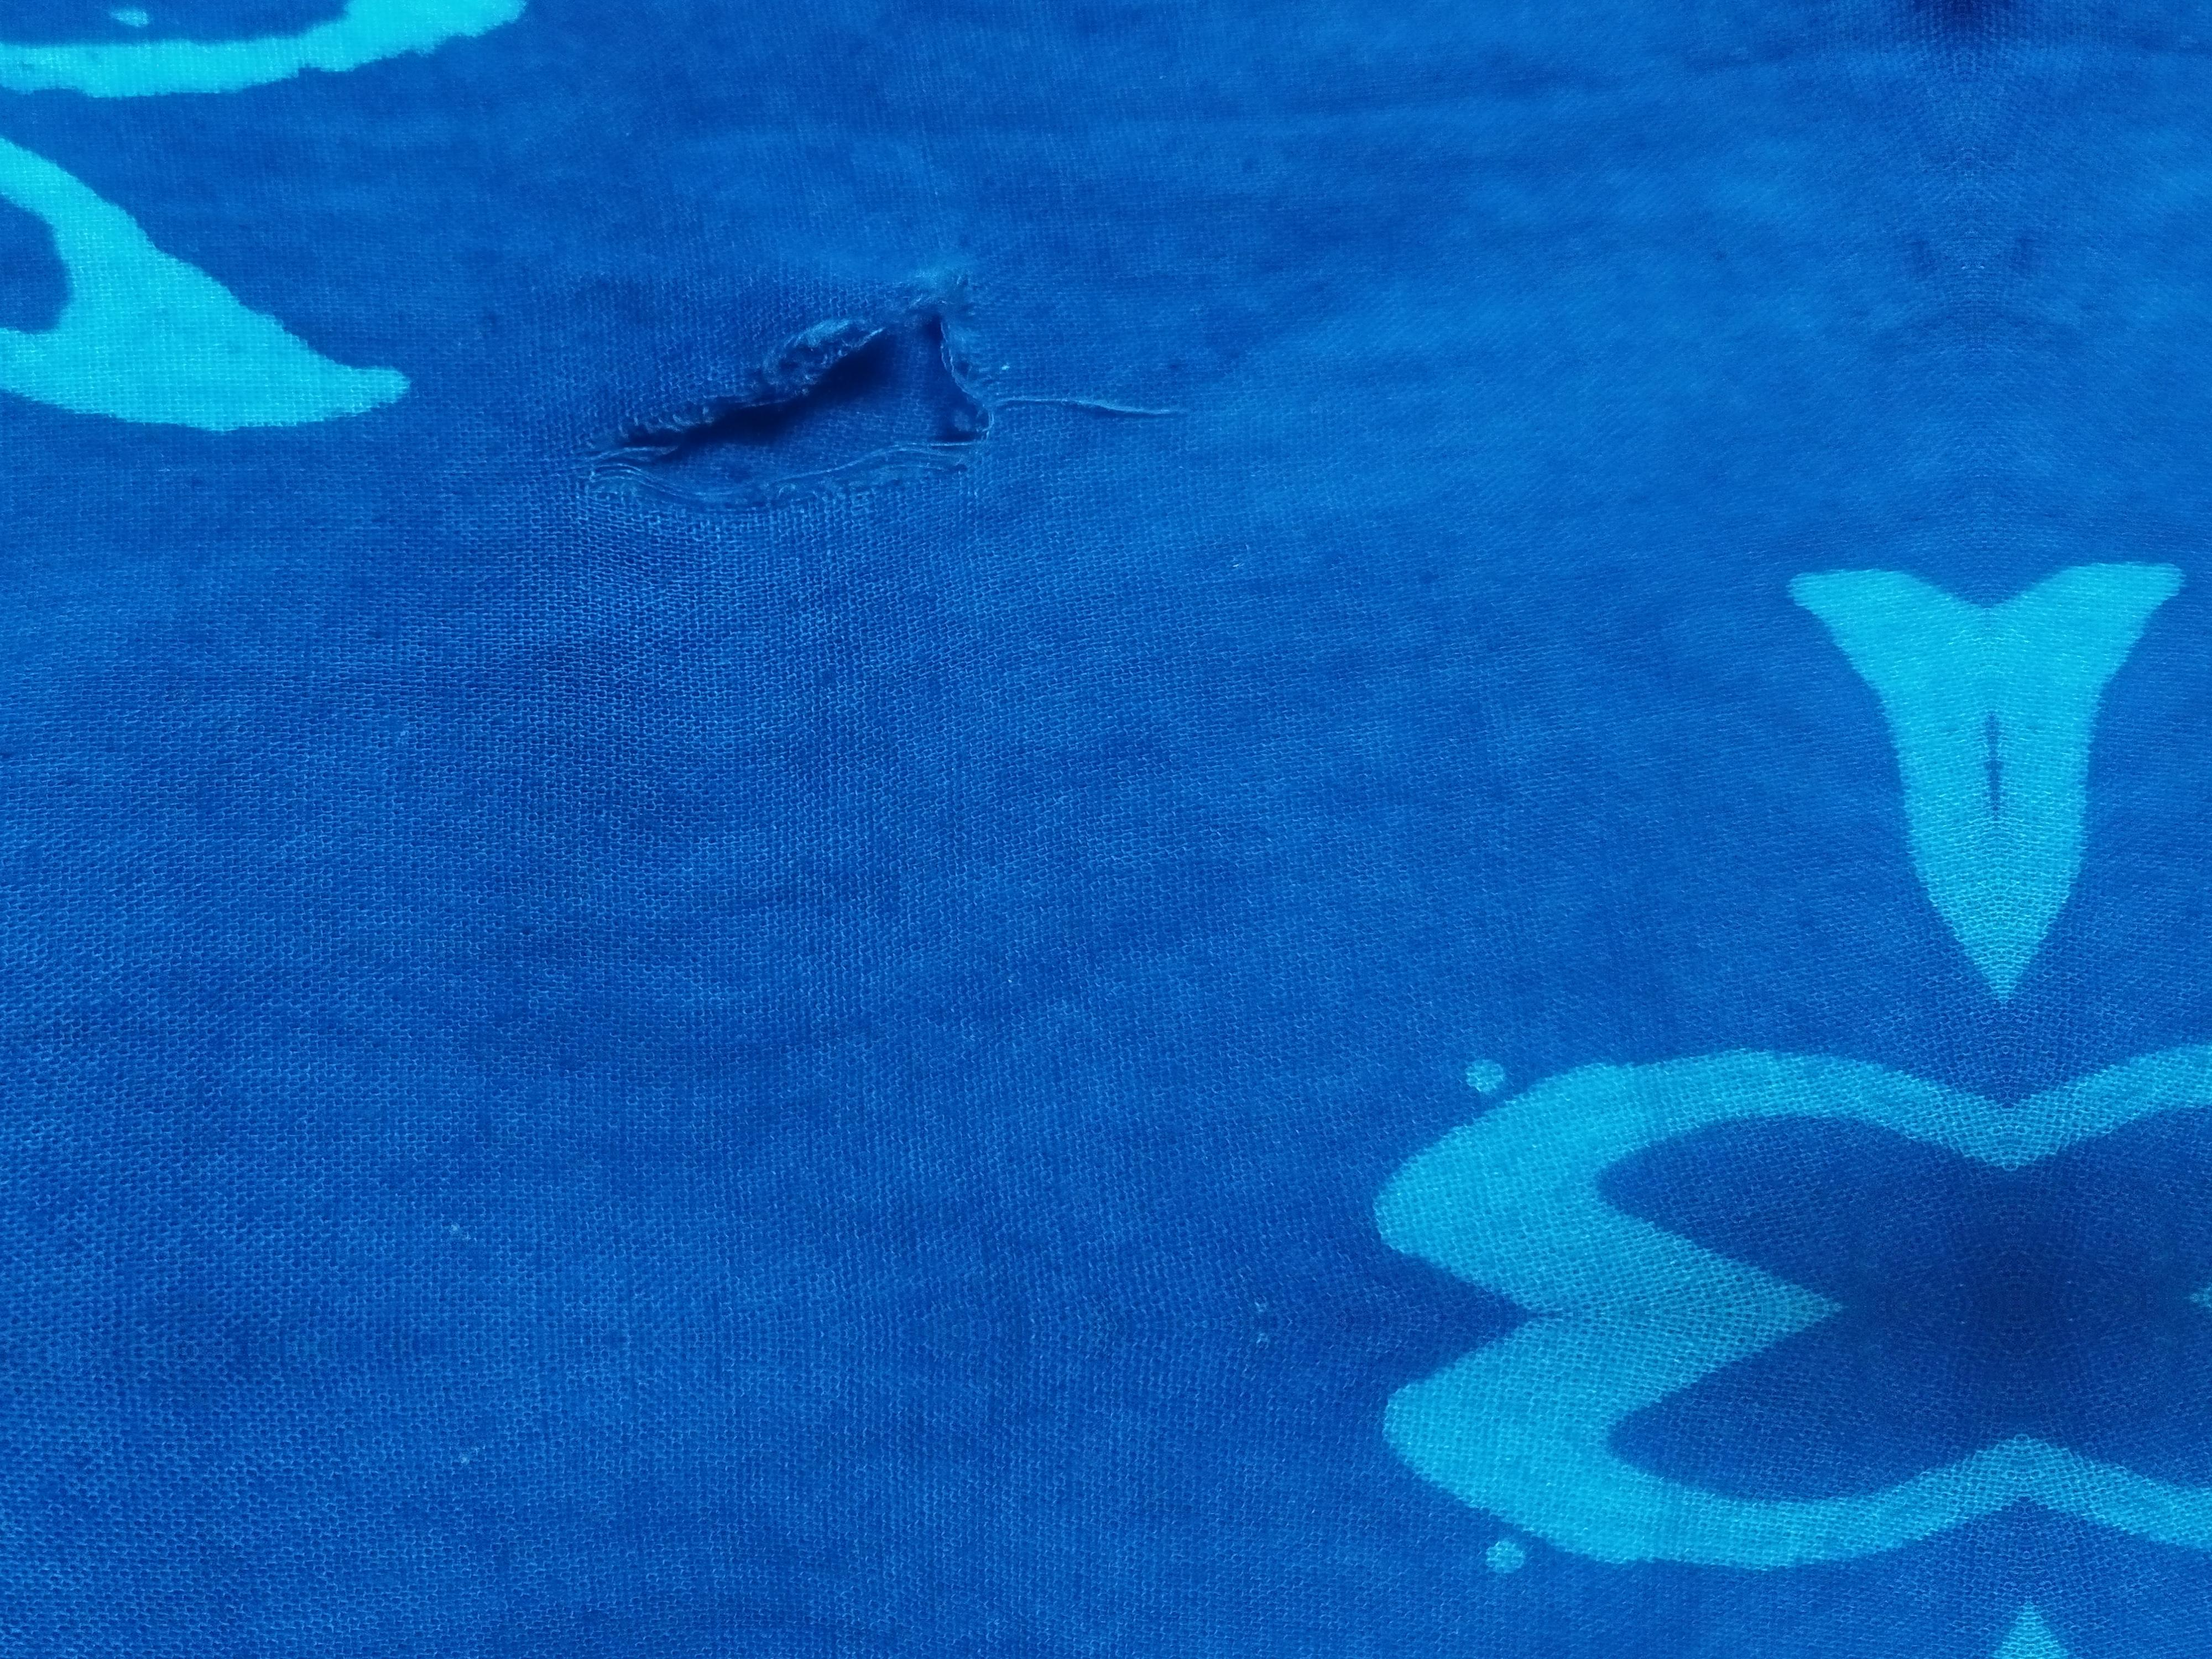hole: (582, 288, 1031, 512)
